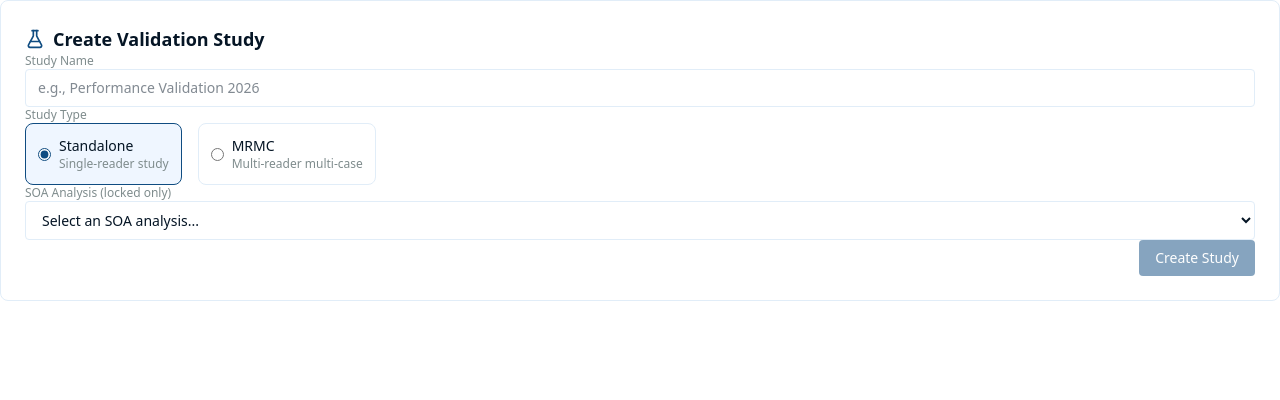
Test: StudyConfigurator › shows benchmarks when SOA selected
The width and height of the screenshot is (1280, 400).
Select "Clinical SOA 2026" in the dropdown with test id "soa-selector" at (640, 220), box [25,201,1255,240]
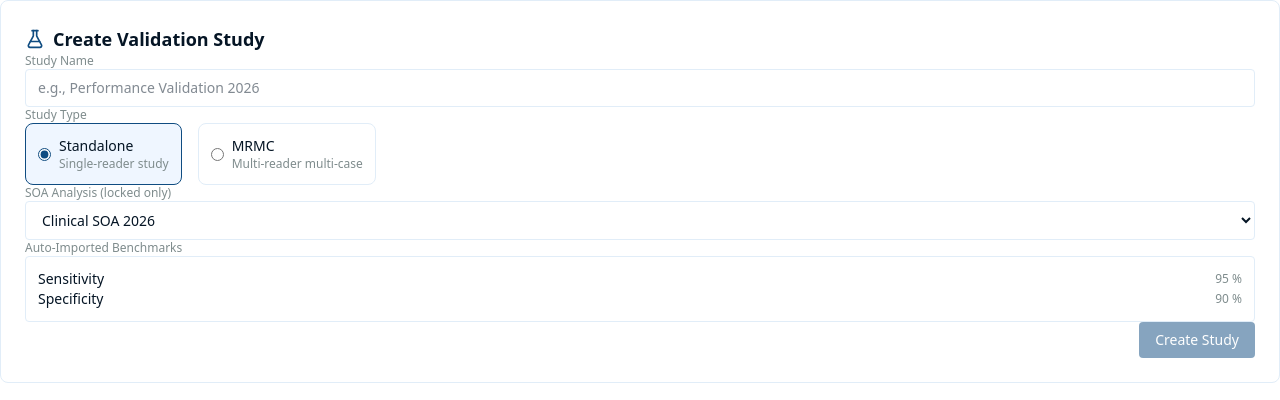
Now the element with test id "benchmark-list" is shown, box [25,256,1255,322]
Now the text "Sensitivity" is shown, box [38,269,104,289]
Now the text "95 %" is shown, box [1215,271,1242,287]
